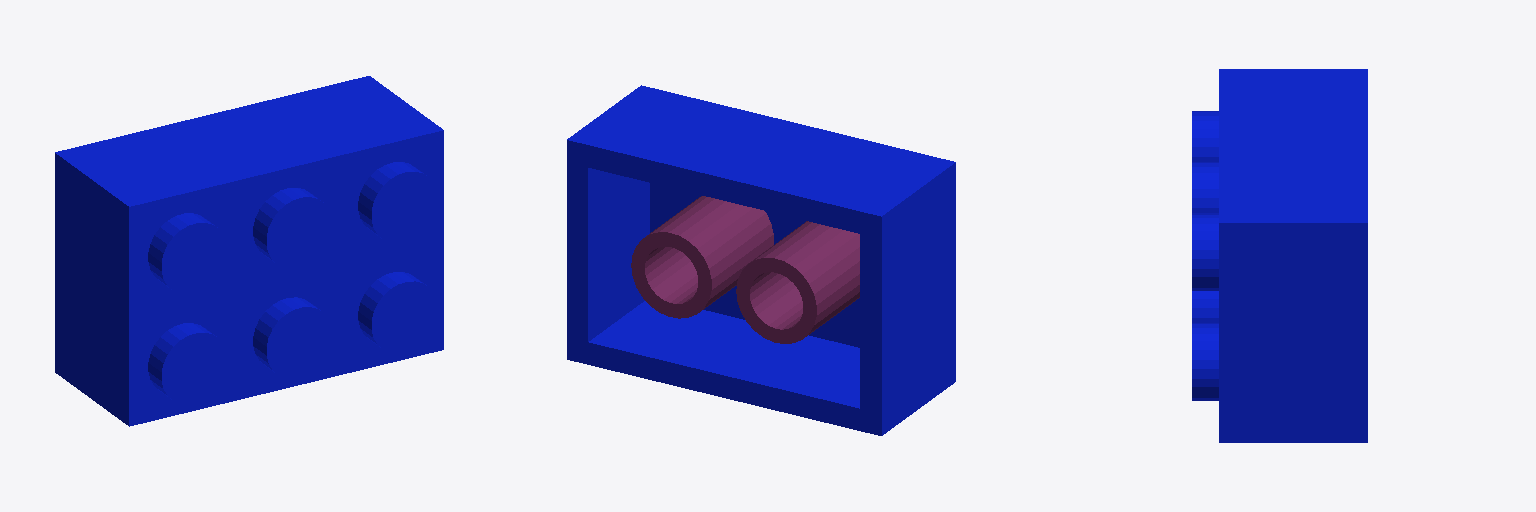
File: legobrick.obj
3 views of the same model, side by side, from view 1: azimuth 30°, elevation 25°; view 2: azimuth 150°, elevation 25°; view 3: azimuth 270°, elevation 25° (orthographic).
Visible parts, largest first — view 1: Mesh_outside.001_OutsideColor-LegoBrick; view 2: Mesh_outside.001_OutsideColor-LegoBrick, Mesh_inside.001_InsideColor-LegoBrick; view 3: Mesh_outside.001_OutsideColor-LegoBrick.
Part boxes in pixels (x1,y1,x2,y2): Mesh_outside.001_OutsideColor-LegoBrick: (55,76,443,426); Mesh_outside.001_OutsideColor-LegoBrick: (567,85,955,435); Mesh_inside.001_InsideColor-LegoBrick: (631,196,859,343); Mesh_outside.001_OutsideColor-LegoBrick: (1192,69,1367,442).
Size of the model in its own units: 2.34 by 1.56 by 1.13.